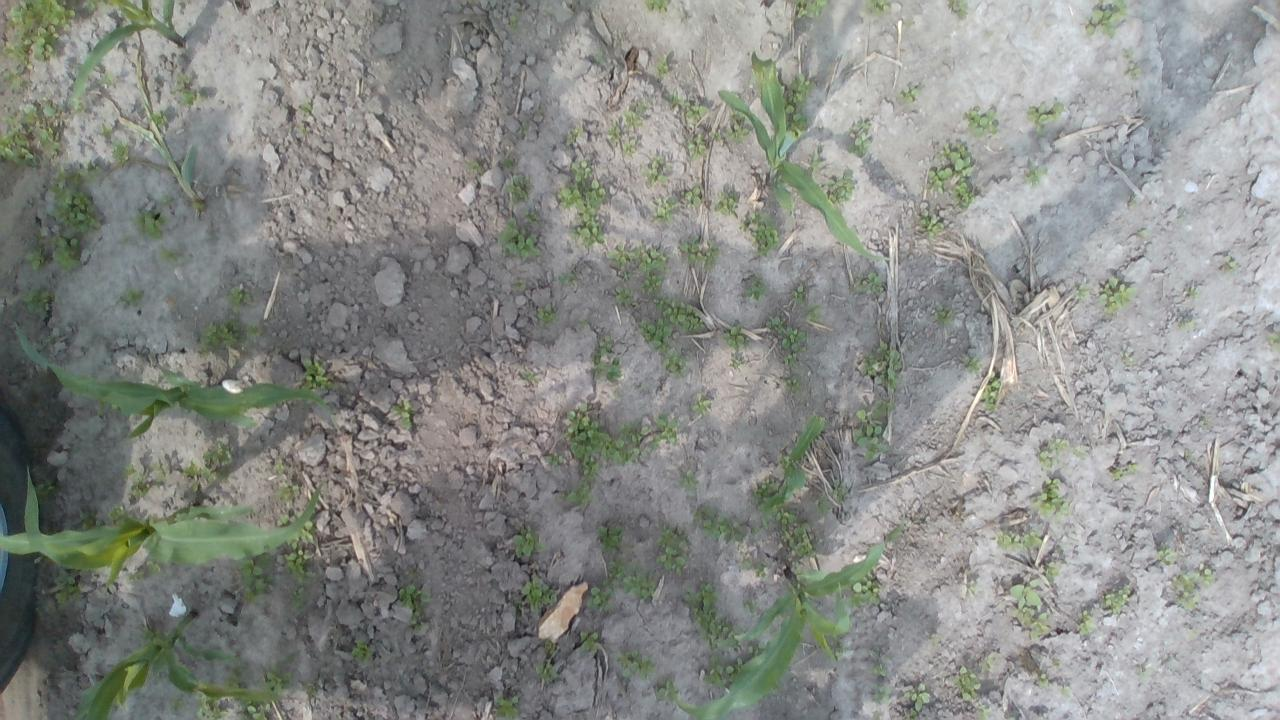Maize: (674, 518, 909, 720), (12, 326, 340, 442), (0, 469, 320, 586), (719, 54, 891, 264), (74, 613, 234, 720), (66, 0, 184, 90), (761, 411, 827, 512)
Weeds: (0, 0, 77, 63), (46, 161, 103, 234), (683, 582, 743, 650), (1009, 578, 1051, 641), (854, 397, 893, 463), (564, 402, 608, 459), (0, 104, 39, 168), (603, 558, 658, 600), (556, 178, 607, 222), (1028, 477, 1070, 525), (652, 294, 705, 332), (654, 524, 691, 578), (236, 554, 274, 606), (692, 506, 744, 544), (861, 341, 902, 388), (739, 212, 780, 258), (608, 422, 650, 464), (498, 218, 542, 258), (1086, 0, 1130, 38), (283, 539, 319, 584), (198, 317, 245, 351), (1096, 276, 1138, 313), (780, 522, 820, 559), (750, 478, 785, 520), (679, 235, 721, 270), (616, 650, 659, 682), (936, 141, 974, 177), (50, 234, 84, 273), (522, 577, 560, 611), (200, 440, 232, 480), (170, 72, 206, 107), (848, 570, 882, 607), (132, 209, 172, 240), (637, 318, 673, 352), (22, 284, 56, 318), (781, 98, 808, 140), (301, 358, 334, 392), (1027, 102, 1062, 134), (650, 413, 680, 450), (52, 570, 84, 604), (826, 169, 856, 205), (1036, 437, 1068, 470), (966, 107, 1000, 137), (954, 666, 982, 702), (513, 526, 546, 556), (786, 73, 813, 109), (848, 122, 874, 159), (196, 691, 228, 720), (262, 664, 292, 694), (641, 155, 670, 186), (571, 221, 605, 247), (592, 336, 612, 380), (637, 244, 667, 272), (702, 656, 728, 688), (391, 397, 416, 430), (1102, 584, 1130, 613), (398, 584, 430, 609), (662, 346, 687, 378), (980, 373, 1001, 411), (607, 242, 640, 266), (651, 196, 679, 224), (226, 283, 253, 312), (566, 481, 595, 508), (850, 272, 884, 295), (924, 168, 954, 194), (918, 209, 944, 239), (586, 585, 615, 611), (713, 189, 739, 218), (721, 324, 750, 350), (505, 175, 532, 202), (904, 684, 930, 712), (792, 0, 828, 20), (238, 699, 272, 720), (37, 128, 61, 157), (147, 460, 170, 490), (598, 525, 624, 551), (494, 694, 520, 720), (745, 275, 770, 302), (781, 326, 806, 352), (2, 66, 26, 93), (996, 528, 1023, 552), (953, 178, 975, 207), (624, 101, 647, 127), (640, 272, 664, 296), (33, 478, 56, 503), (1024, 163, 1047, 188), (119, 286, 145, 308), (1171, 570, 1197, 592), (686, 133, 706, 161), (223, 664, 246, 688), (690, 394, 714, 417), (726, 658, 747, 684), (829, 478, 850, 504), (654, 680, 677, 703), (109, 138, 131, 162), (25, 248, 47, 272), (1076, 610, 1098, 634), (538, 304, 560, 327), (1156, 545, 1180, 566), (582, 455, 600, 482), (352, 639, 373, 662), (534, 662, 558, 682), (572, 158, 592, 182), (274, 481, 299, 500), (606, 356, 624, 382), (871, 647, 886, 678), (288, 587, 308, 610), (580, 630, 599, 654), (1197, 564, 1216, 588), (78, 509, 100, 529), (408, 609, 428, 631), (678, 469, 698, 491), (614, 284, 634, 306), (946, 0, 969, 19), (683, 102, 707, 120), (896, 86, 920, 104), (1177, 592, 1201, 610), (829, 634, 849, 655), (782, 374, 804, 393), (812, 494, 831, 516), (726, 124, 749, 142), (933, 306, 953, 326), (872, 684, 891, 705), (864, 0, 890, 15), (774, 508, 798, 524), (806, 152, 822, 176), (108, 505, 128, 524), (1023, 530, 1044, 548), (642, 0, 671, 13), (85, 0, 118, 11), (752, 560, 771, 579), (68, 94, 86, 114), (764, 316, 784, 334), (1074, 282, 1092, 302), (1136, 664, 1154, 684), (121, 465, 143, 481), (607, 120, 621, 145), (99, 71, 117, 90), (685, 188, 702, 208), (149, 110, 170, 126), (544, 452, 566, 467), (1125, 62, 1143, 80), (566, 127, 583, 146), (655, 55, 669, 78), (159, 246, 179, 262), (182, 458, 198, 478), (792, 285, 808, 305), (804, 303, 821, 321), (142, 626, 158, 645), (982, 652, 998, 671), (128, 483, 148, 498), (126, 567, 146, 582), (748, 641, 768, 656), (1222, 255, 1236, 276), (43, 101, 61, 117), (522, 209, 540, 225), (963, 356, 981, 372), (1045, 562, 1060, 581), (1266, 330, 1280, 350), (739, 550, 753, 570), (146, 560, 162, 577), (300, 521, 314, 540), (750, 520, 769, 534), (1118, 352, 1138, 365), (728, 108, 748, 121), (1186, 286, 1202, 302), (245, 323, 262, 338), (622, 140, 637, 156), (1071, 444, 1088, 458), (743, 598, 757, 614), (667, 91, 684, 104), (783, 352, 796, 369), (520, 371, 540, 382), (298, 98, 310, 116), (557, 274, 578, 284), (728, 356, 744, 369), (1178, 319, 1196, 330), (155, 195, 173, 206), (170, 698, 184, 712), (100, 122, 114, 136), (544, 640, 558, 654), (502, 156, 516, 170), (976, 706, 990, 720), (464, 159, 480, 171), (519, 122, 531, 138), (296, 124, 310, 137), (508, 15, 520, 30), (273, 459, 285, 474), (306, 681, 318, 696), (710, 130, 723, 143), (1112, 468, 1126, 480), (1037, 673, 1049, 687), (95, 399, 106, 414), (277, 513, 289, 526), (406, 567, 419, 579), (44, 334, 56, 346), (513, 278, 525, 290), (967, 582, 979, 594), (929, 632, 939, 646), (791, 562, 802, 574), (577, 317, 589, 328), (189, 479, 199, 492), (1198, 414, 1208, 426), (750, 71, 759, 84), (1184, 448, 1194, 459), (594, 54, 605, 64), (1123, 48, 1134, 58), (622, 271, 632, 282), (1136, 229, 1148, 238), (1052, 659, 1064, 668), (907, 710, 917, 720), (1062, 686, 1070, 698), (1128, 464, 1138, 472), (906, 19, 914, 27), (914, 514, 921, 522), (296, 512, 302, 518), (1008, 717, 1016, 720)
